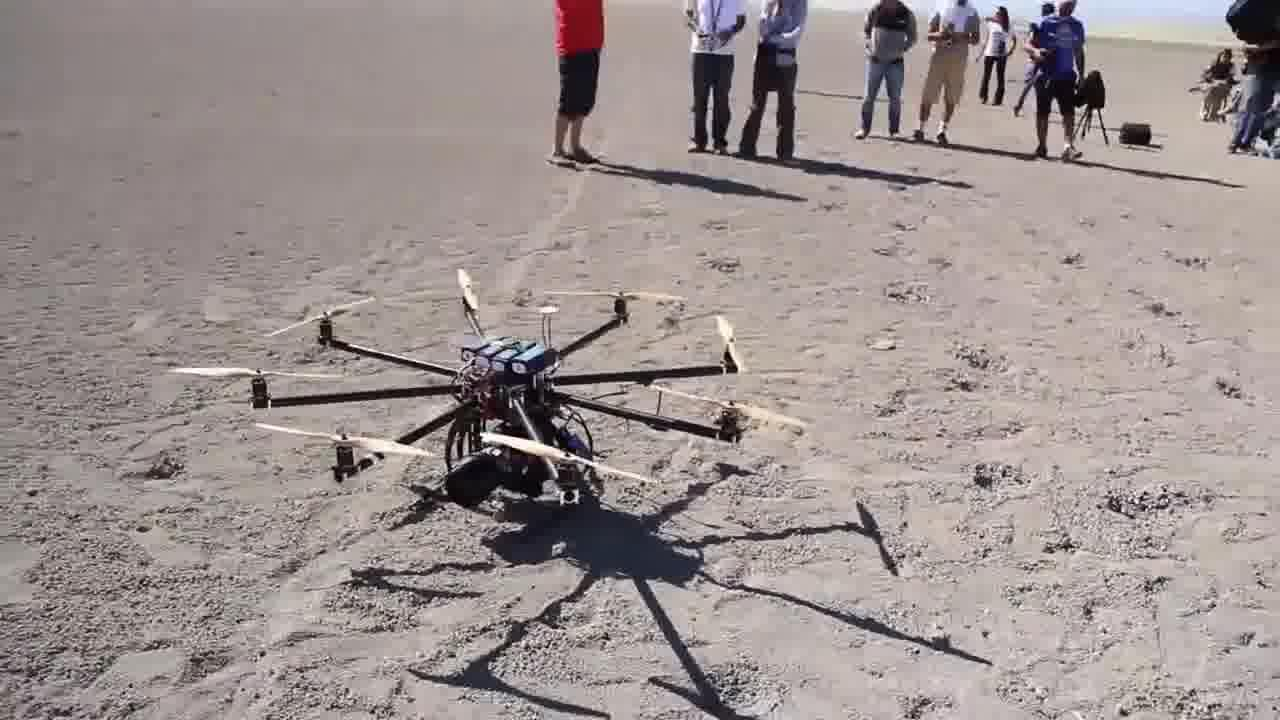drone: (174, 244, 788, 541)
